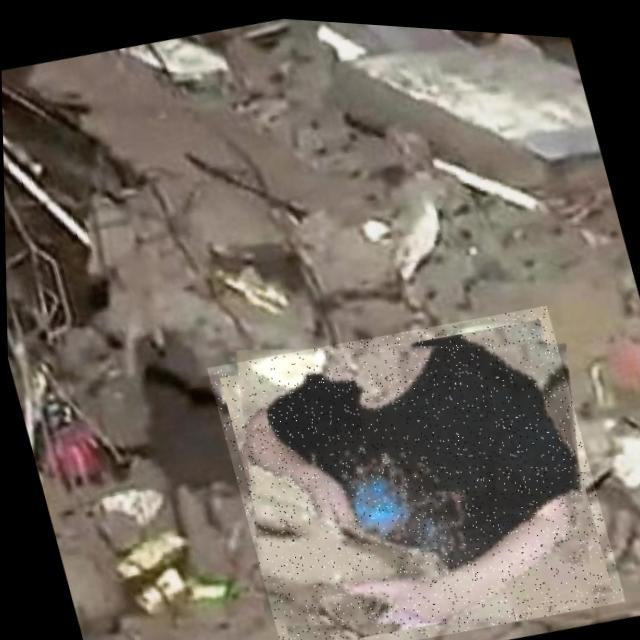Person in Rubble: (204, 279, 624, 640)
